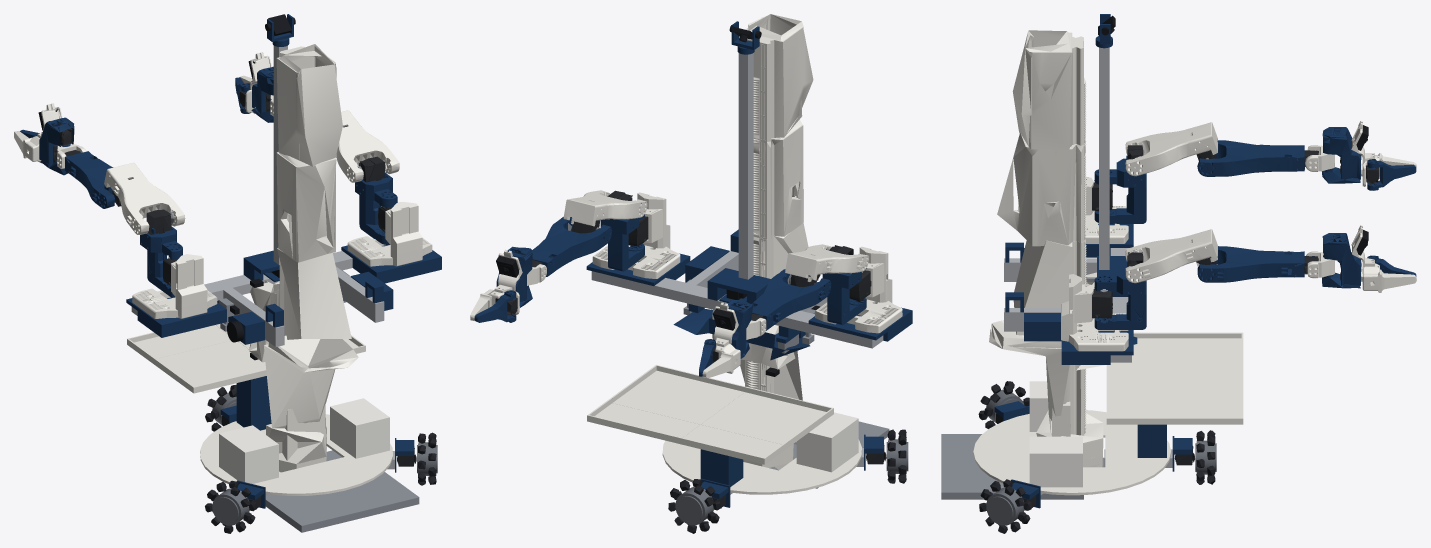
3 views of the same model, side by side, from view 1: azimuth 30°, elevation 25°; view 2: azimuth 150°, elevation 25°; view 3: azimuth 270°, elevation 25° (orthographic). The views are drawn at different scales.
Visible parts, largest first — view 1: lift.base.ivory, base.base.ivory, lift.lift.navy, power.base.ivory_hi, base.base.steel, lift.lift.alu, shoulder_R.lift.ivory, shoulder_L.lift.ivory, shoulder_L.left_shoulder.ivory, base.base.navy, shoulder_R.right_shoulder.ivory, base.base.rubber (+12 smaller); view 2: base.base.ivory, lift.base.ivory, lift.lift.alu, lift.lift.navy, power.base.ivory_hi, shoulder_L.lift.ivory, shoulder_R.lift.ivory, arm_R.right_elbow.navy, arm_L.left_elbow.navy, base.base.navy, shoulder_L.left_shoulder.ivory, shoulder_R.right_shoulder.ivory (+11 smaller); view 3: lift.base.ivory, base.base.ivory, lift.lift.alu, lift.lift.navy, power.base.ivory_hi, base.base.steel, arm_R.right_elbow.navy, arm_L.left_elbow.navy, shoulder_R.right_shoulder.ivory, shoulder_L.left_shoulder.ivory, shoulder_R.lift.ivory, base.base.rubber (+13 smaller).
Part boxes in pixels (x1,y1,x2,y2): lift.base.ivory: [264, 44, 358, 472]; base.base.ivory: [127, 324, 392, 495]; lift.lift.navy: [126, 14, 441, 344]; power.base.ivory_hi: [219, 398, 389, 483]; base.base.steel: [265, 450, 419, 532]; lift.lift.alu: [131, 45, 384, 346]; shoulder_R.lift.ivory: [347, 202, 432, 266]; shoulder_L.lift.ivory: [132, 254, 217, 318]; shoulder_L.left_shoulder.ivory: [104, 162, 185, 234]; base.base.navy: [220, 376, 414, 508]; shoulder_R.right_shoulder.ivory: [336, 110, 399, 182]; base.base.rubber: [205, 384, 436, 533]; base.base.ivory: [587, 365, 861, 494]; lift.base.ivory: [740, 14, 813, 469]; lift.lift.alu: [591, 53, 883, 348]; lift.lift.navy: [586, 21, 912, 360]; power.base.ivory_hi: [796, 412, 858, 472]; shoulder_L.lift.ivory: [815, 246, 902, 333]; shoulder_R.lift.ivory: [592, 192, 680, 278]; arm_R.right_elbow.navy: [532, 217, 611, 276]; arm_L.left_elbow.navy: [751, 269, 831, 330]; base.base.navy: [700, 434, 883, 507]; shoulder_L.left_shoulder.ivory: [785, 244, 868, 281]; shoulder_R.right_shoulder.ivory: [563, 190, 647, 226]; lift.base.ivory: [989, 30, 1103, 467]; base.base.ivory: [973, 332, 1243, 495]; lift.lift.alu: [1004, 47, 1131, 362]; lift.lift.navy: [1005, 14, 1137, 364]; power.base.ivory_hi: [1029, 381, 1082, 487]; base.base.steel: [941, 434, 1104, 499]; arm_R.right_elbow.navy: [1197, 246, 1314, 282]; arm_L.left_elbow.navy: [1197, 140, 1304, 176]; shoulder_R.right_shoulder.ivory: [1125, 229, 1217, 283]; shoulder_L.left_shoulder.ivory: [1125, 122, 1217, 176]; shoulder_R.lift.ivory: [1061, 274, 1128, 351]; base.base.rubber: [978, 381, 1215, 533].
Bounding box in the file's own units: 0.619 × 0.9561 × 0.8893.
